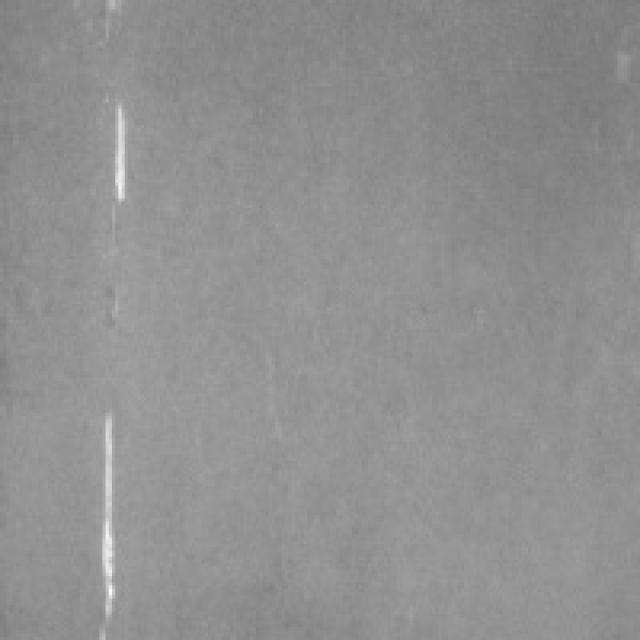scratches: (77, 400, 128, 634), (96, 93, 131, 208)
